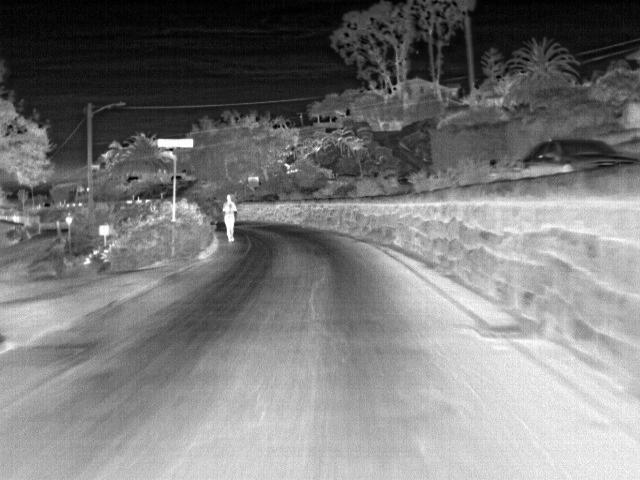car: (514, 139, 637, 165)
person: (224, 194, 237, 243)
